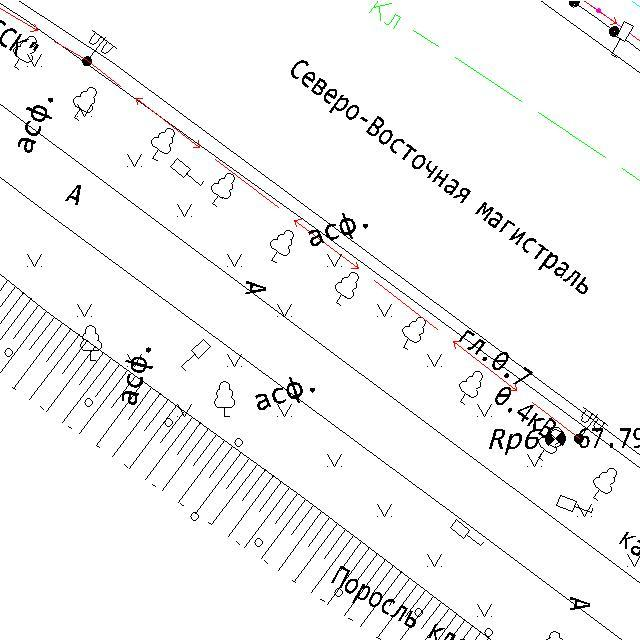asphalt: (306, 210, 370, 248), (254, 374, 317, 412), (16, 95, 56, 154), (120, 344, 154, 406), (242, 277, 268, 297), (63, 182, 83, 207), (568, 594, 591, 613)
sing: (170, 156, 207, 189), (179, 337, 212, 373), (450, 518, 485, 549), (609, 19, 636, 59), (554, 493, 595, 516)
tree: (78, 321, 104, 363), (212, 379, 238, 420), (209, 170, 237, 208), (458, 368, 484, 408), (333, 269, 360, 307), (148, 126, 176, 162), (268, 228, 296, 264), (12, 34, 38, 72), (72, 85, 98, 122), (592, 465, 618, 502), (400, 316, 427, 351)
